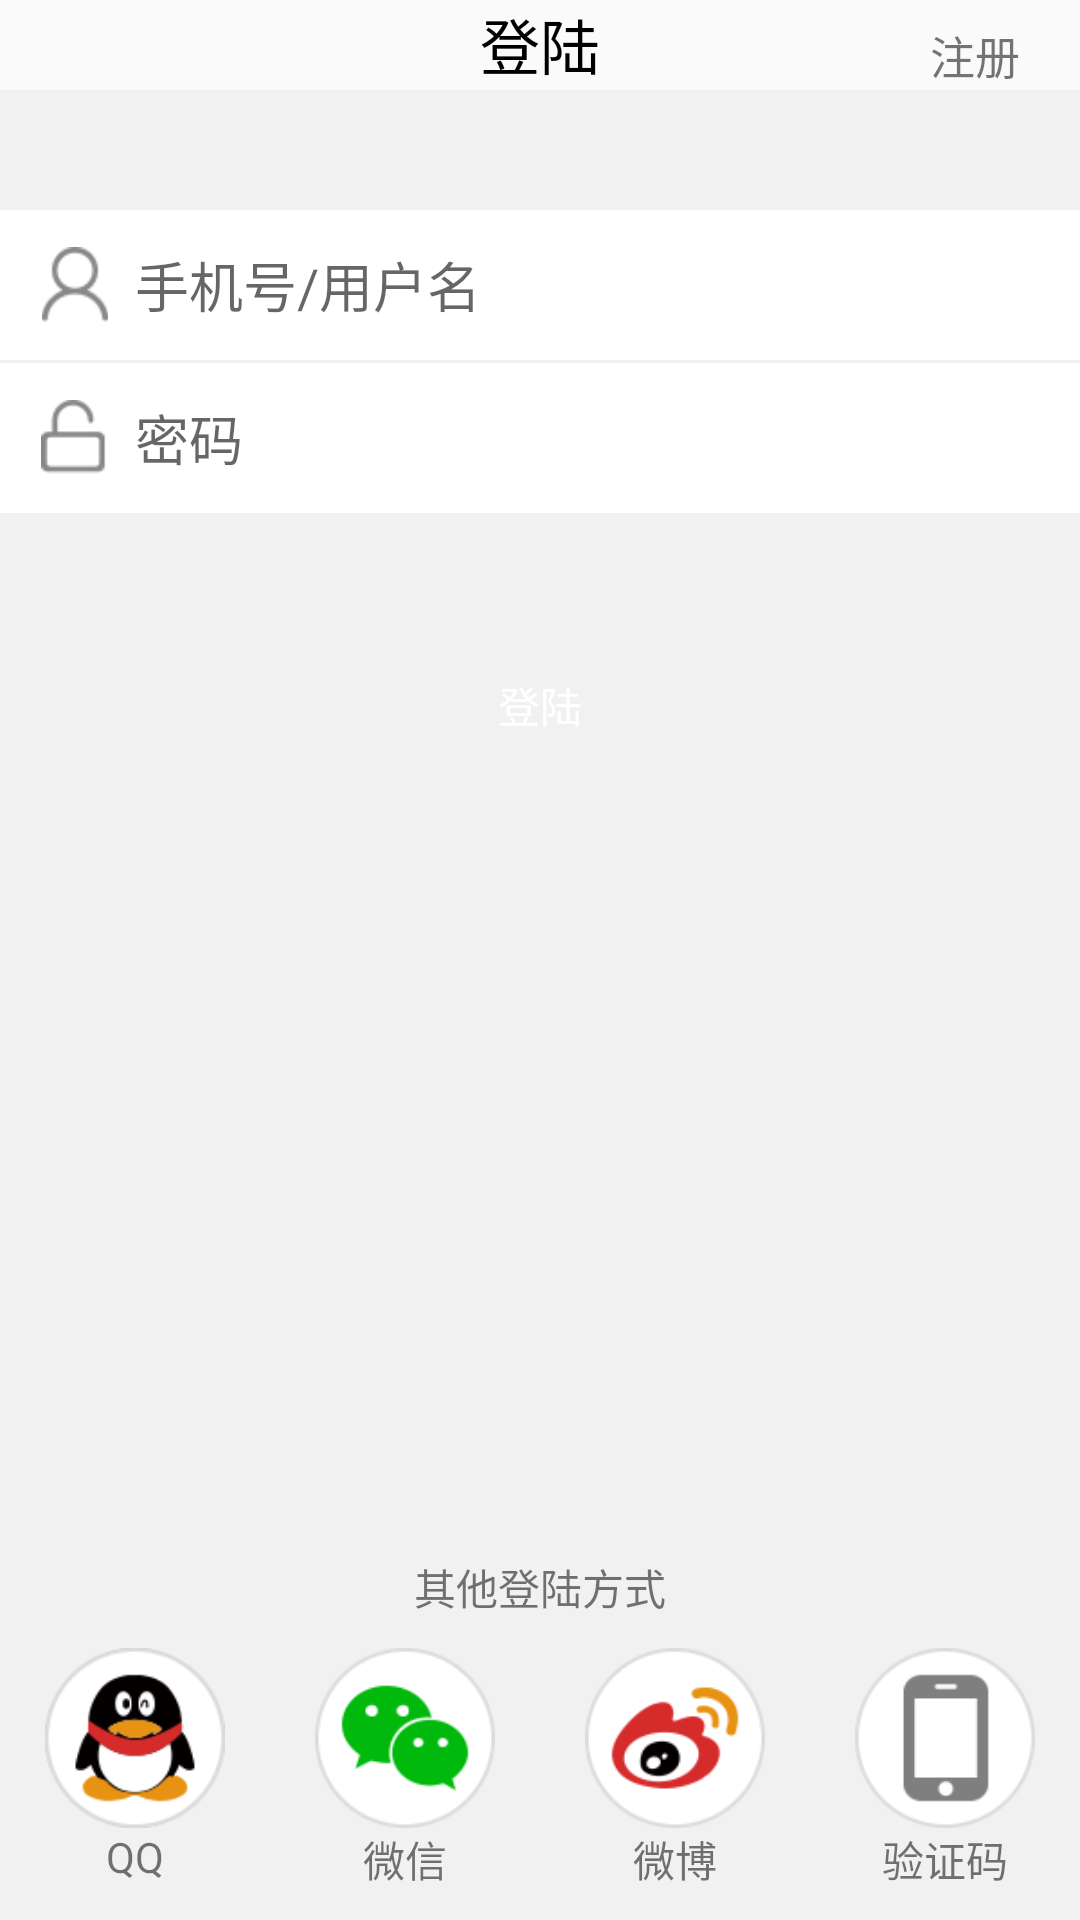

Icon click points for this 1080 × 1920 phone screenshot, format (x=x, y=y):
agent register user: (x=75, y=284)
